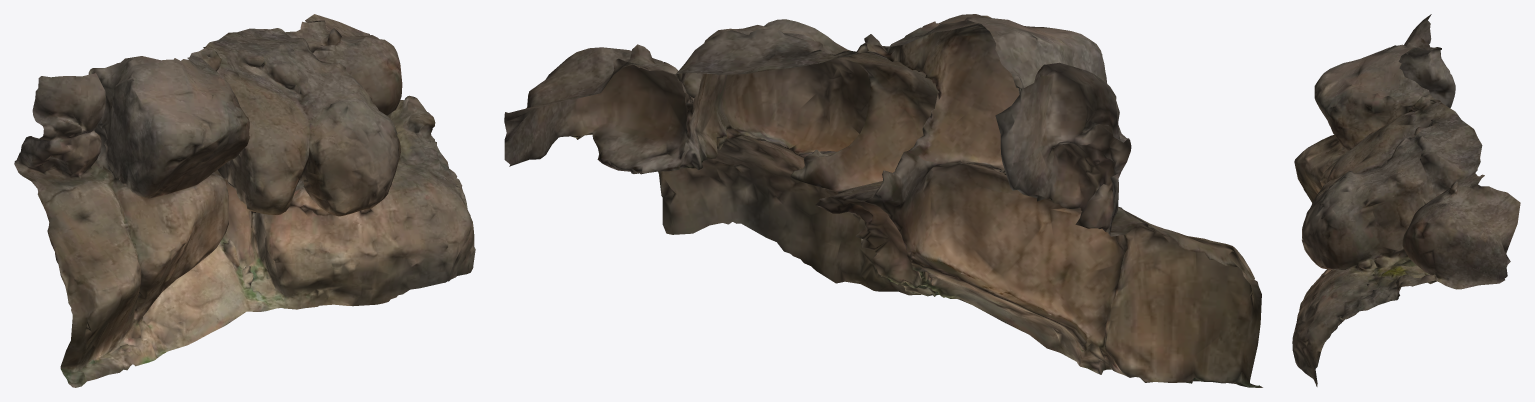
Rendered from desert_cliff.glb.
3 views of the same model, side by side, from view 1: azimuth 30°, elevation 25°; view 2: azimuth 150°, elevation 25°; view 3: azimuth 270°, elevation 25° (orthographic). The views are drawn at different scales.
Visible parts, largest first — view 1: drone_rock_01; view 2: drone_rock_01; view 3: drone_rock_01.
Part boxes in pixels (bbox=[...]): drone_rock_01: bbox=[14, 14, 475, 387]; drone_rock_01: bbox=[504, 14, 1262, 387]; drone_rock_01: bbox=[1292, 14, 1520, 386].
Size of the model in its own units: 8.28 by 4.96 by 4.38.
Materials: 1 (1 with a texture image).
